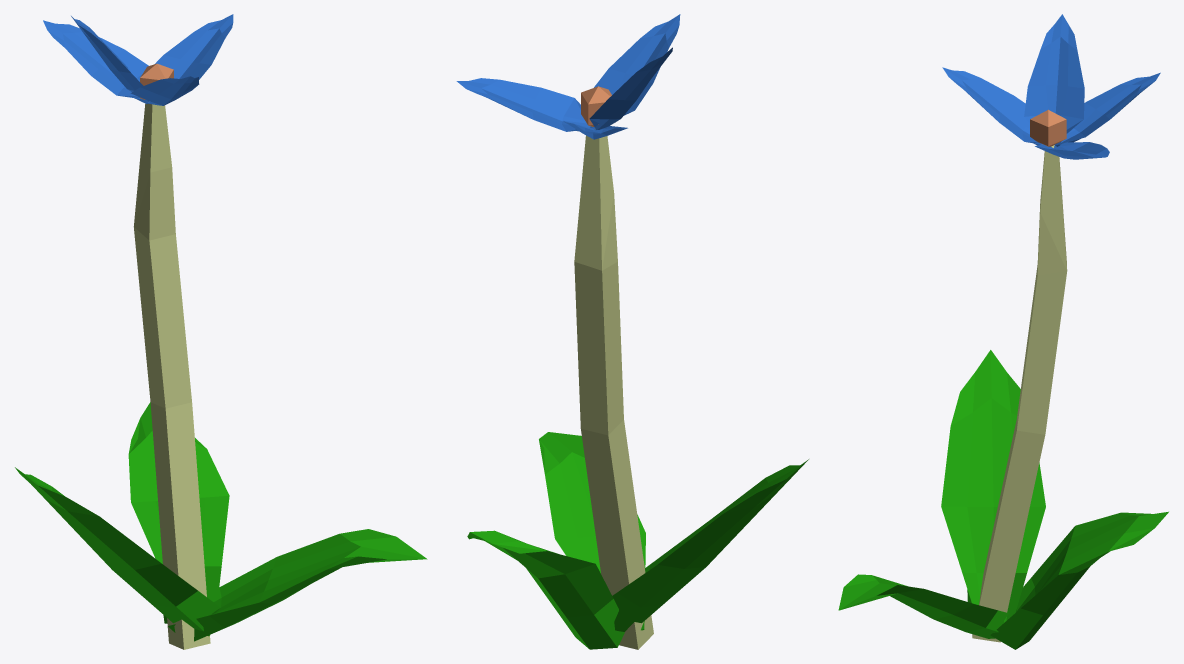
The model's file is Flower_1.fbx.
3 views of the same model, side by side, from view 1: azimuth 30°, elevation 25°; view 2: azimuth 150°, elevation 25°; view 3: azimuth 270°, elevation 25° (orthographic). The views are drawn at different scales.
Visible parts, largest first — view 1: Flower_mesh; view 2: Flower_mesh; view 3: Flower_mesh.
Boxes of the visible parts, x1=… form: Flower_mesh: x1=15, y1=14, x2=427, y2=649; Flower_mesh: x1=456, y1=14, x2=808, y2=649; Flower_mesh: x1=838, y1=14, x2=1168, y2=649.
Size of the model in its own units: 34.81 by 62.09 by 31.8.
